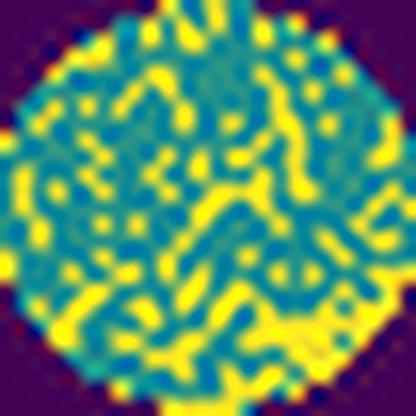Random: (24, 46, 415, 416)
